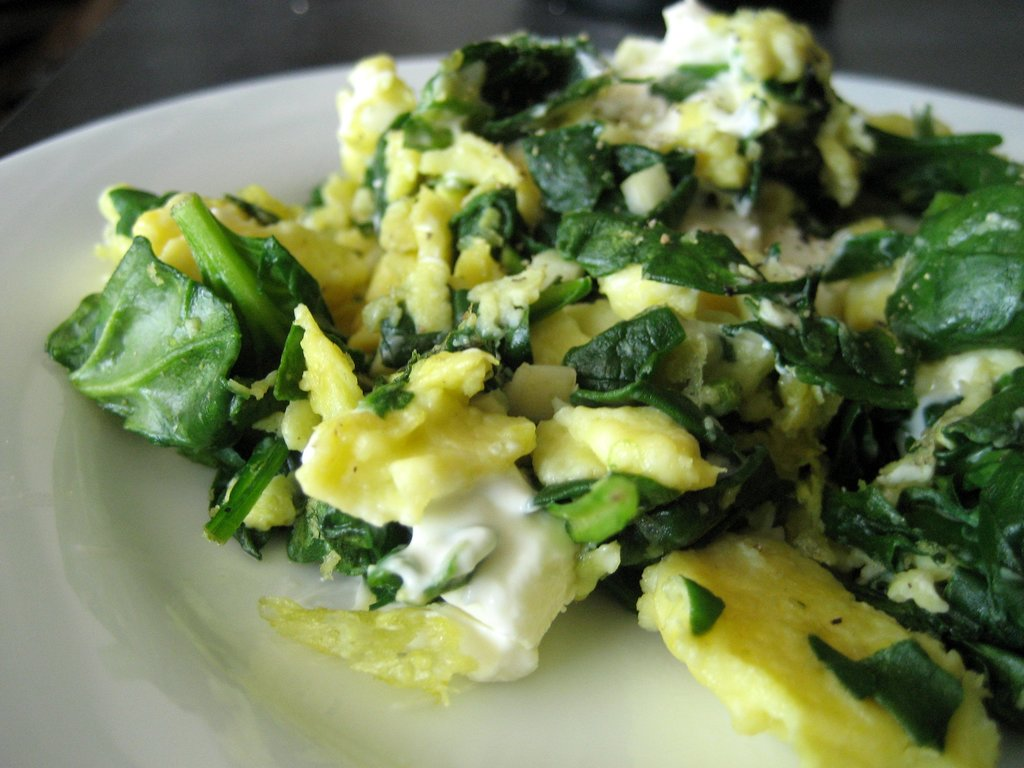salad: (40, 15, 1023, 739)
